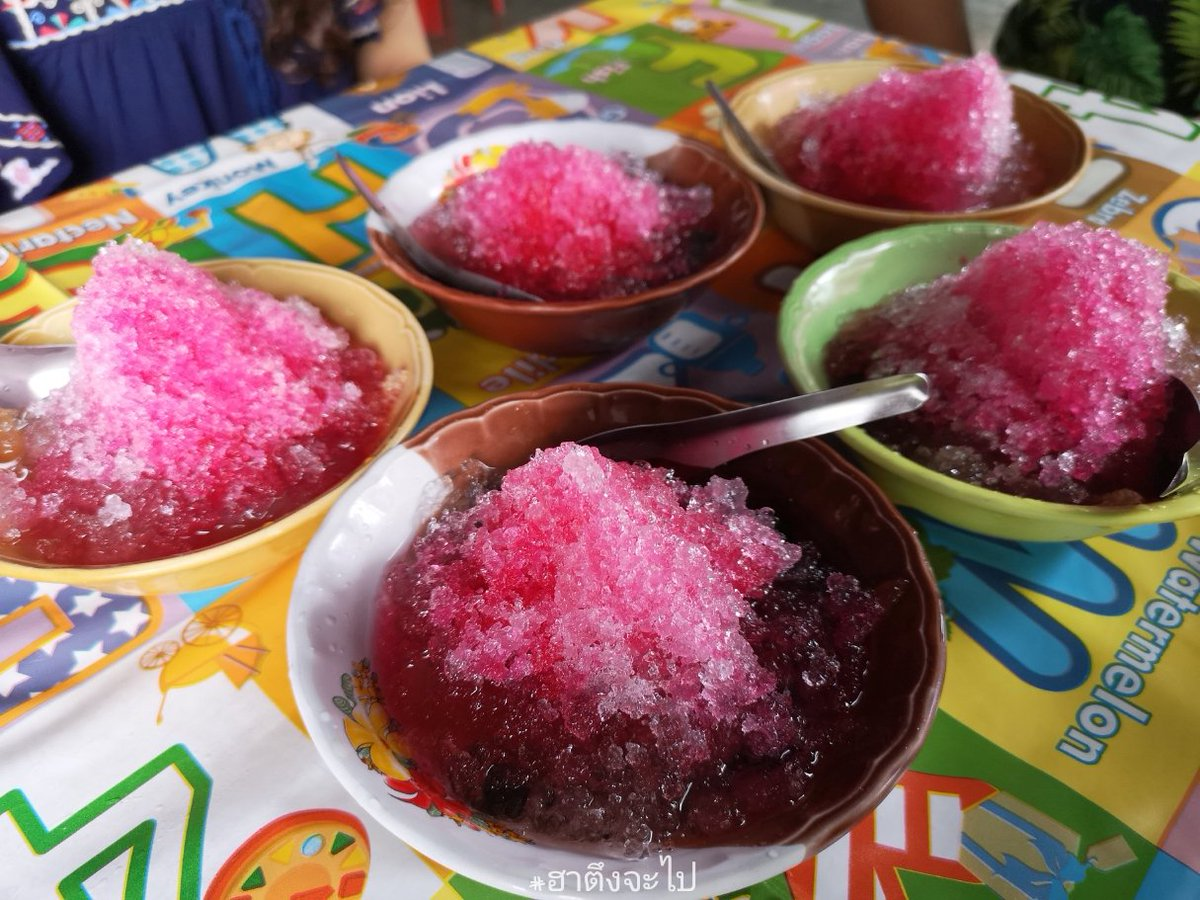O-eo: (337, 381, 951, 890), (2, 241, 459, 635), (796, 199, 1200, 548), (369, 112, 775, 360), (728, 46, 1110, 274)
